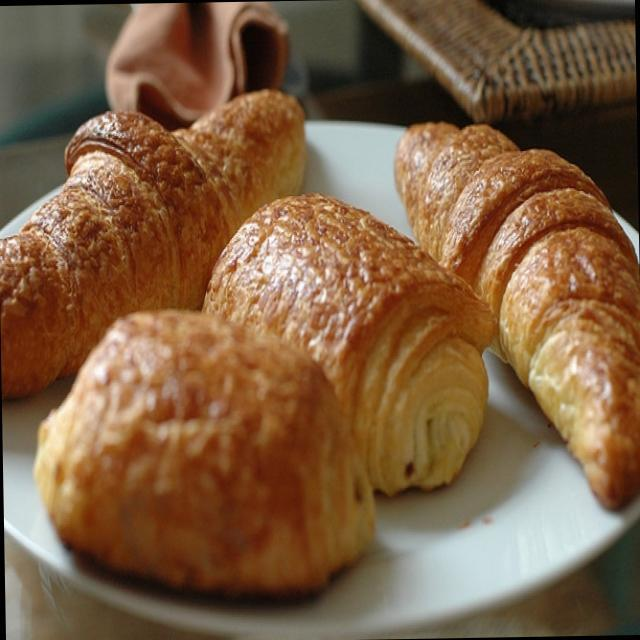Bread: (0, 76, 315, 396)
